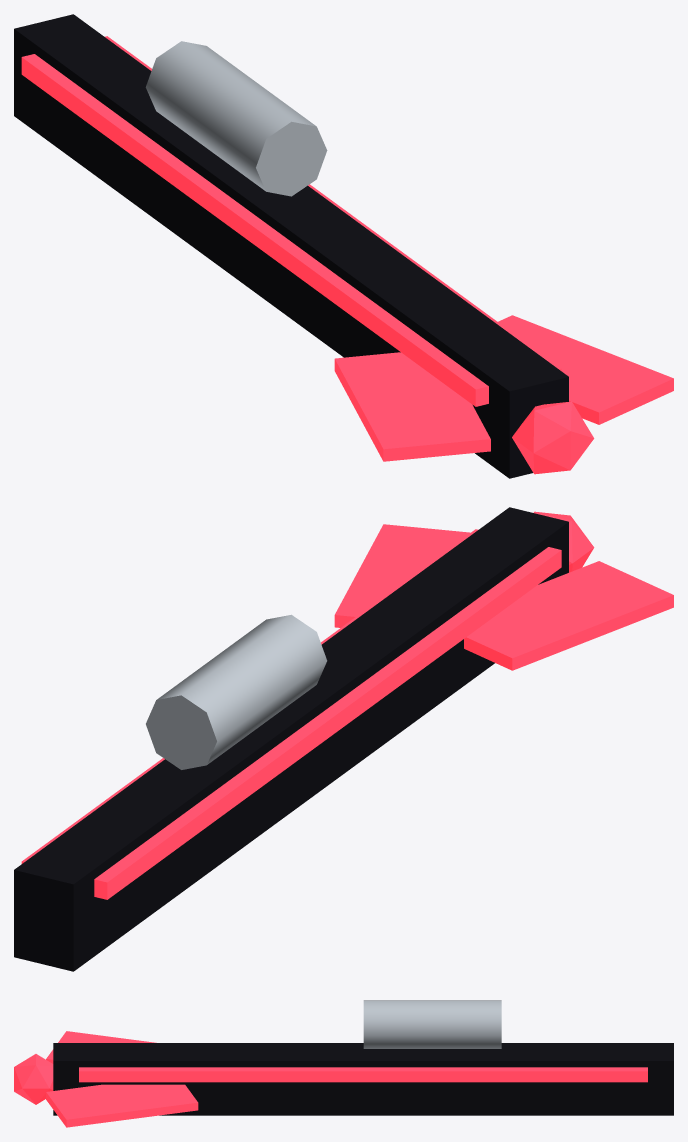
The model's file is fw_shion2.glb.
3 renders of one model, top to bottom at view 1: azimuth 30°, elevation 25°; view 2: azimuth 150°, elevation 25°; view 3: azimuth 270°, elevation 25°, orthographic. The views are drawn at different scales.
Parts seen in each view (by area): view 1: fw_shion2; view 2: fw_shion2; view 3: fw_shion2.
Part boxes in pixels (x1,y1,x2,y2): fw_shion2: (14,14,673,478); fw_shion2: (14,507,673,971); fw_shion2: (14,1000,673,1127).
Bounding box in the file's own units: 0.2437 × 0.135 × 0.7655.
